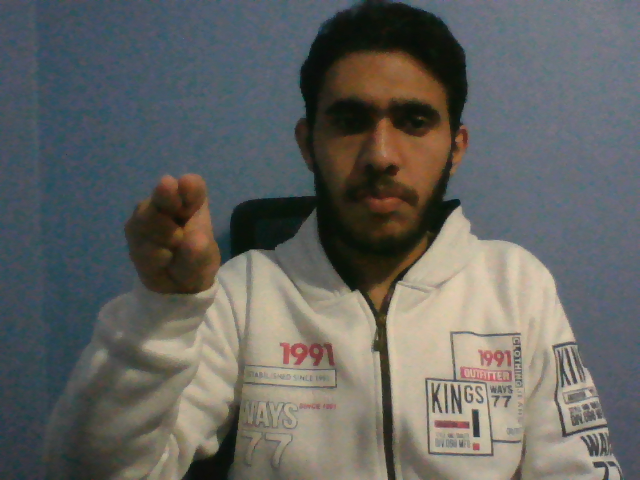no: (120, 165, 227, 301)
